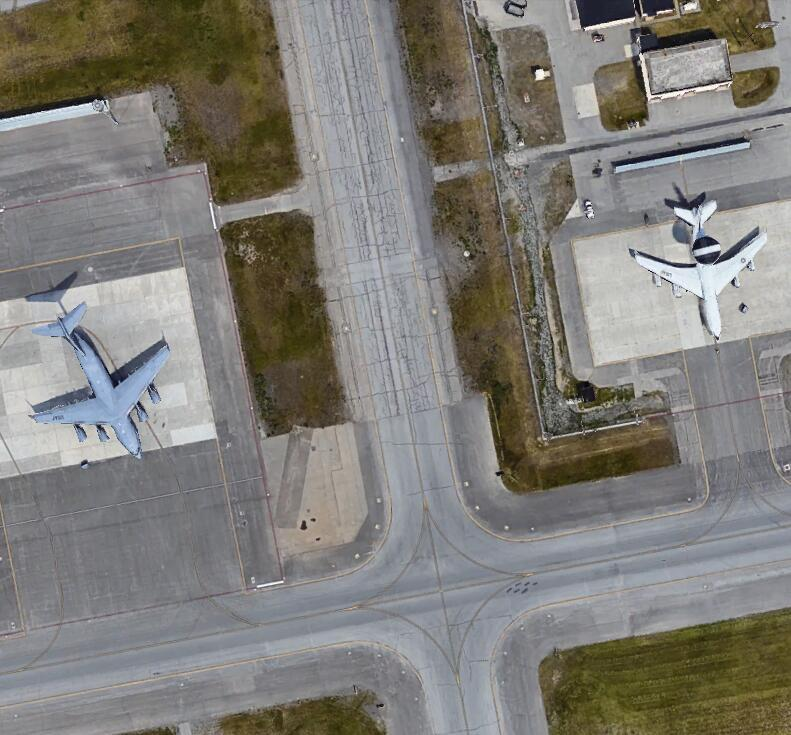A3: (28, 299, 171, 458)
A7: (629, 197, 769, 342)
